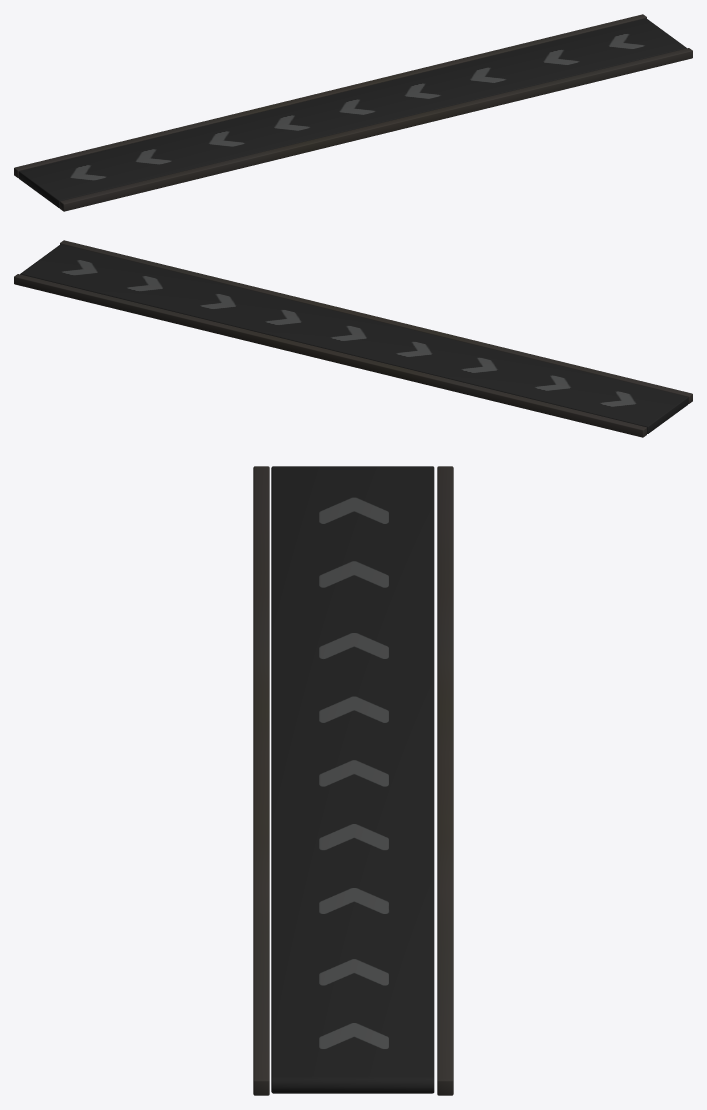
File: Conveyor.fbx
3 views of the same model, one above another, from view 1: azimuth 30°, elevation 25°; view 2: azimuth 150°, elevation 25°; view 3: azimuth 270°, elevation 25° (orthographic). The views are drawn at different scales.
Visible parts, largest first — view 1: Plane.001, Plane; view 2: Plane.001, Plane; view 3: Plane.001, Plane.
Boxes of the visible parts, box(x1,y1,x2,y2) form: Plane.001: box(18, 18, 686, 208); Plane: box(14, 14, 692, 211); Plane.001: box(20, 244, 688, 433); Plane: box(14, 240, 692, 437); Plane.001: box(271, 466, 434, 1093); Plane: box(253, 466, 453, 1095).
Bounding box in the file's own units: 17.85 × 0.2162 × 2.46.
2 materials, 2 textured.
